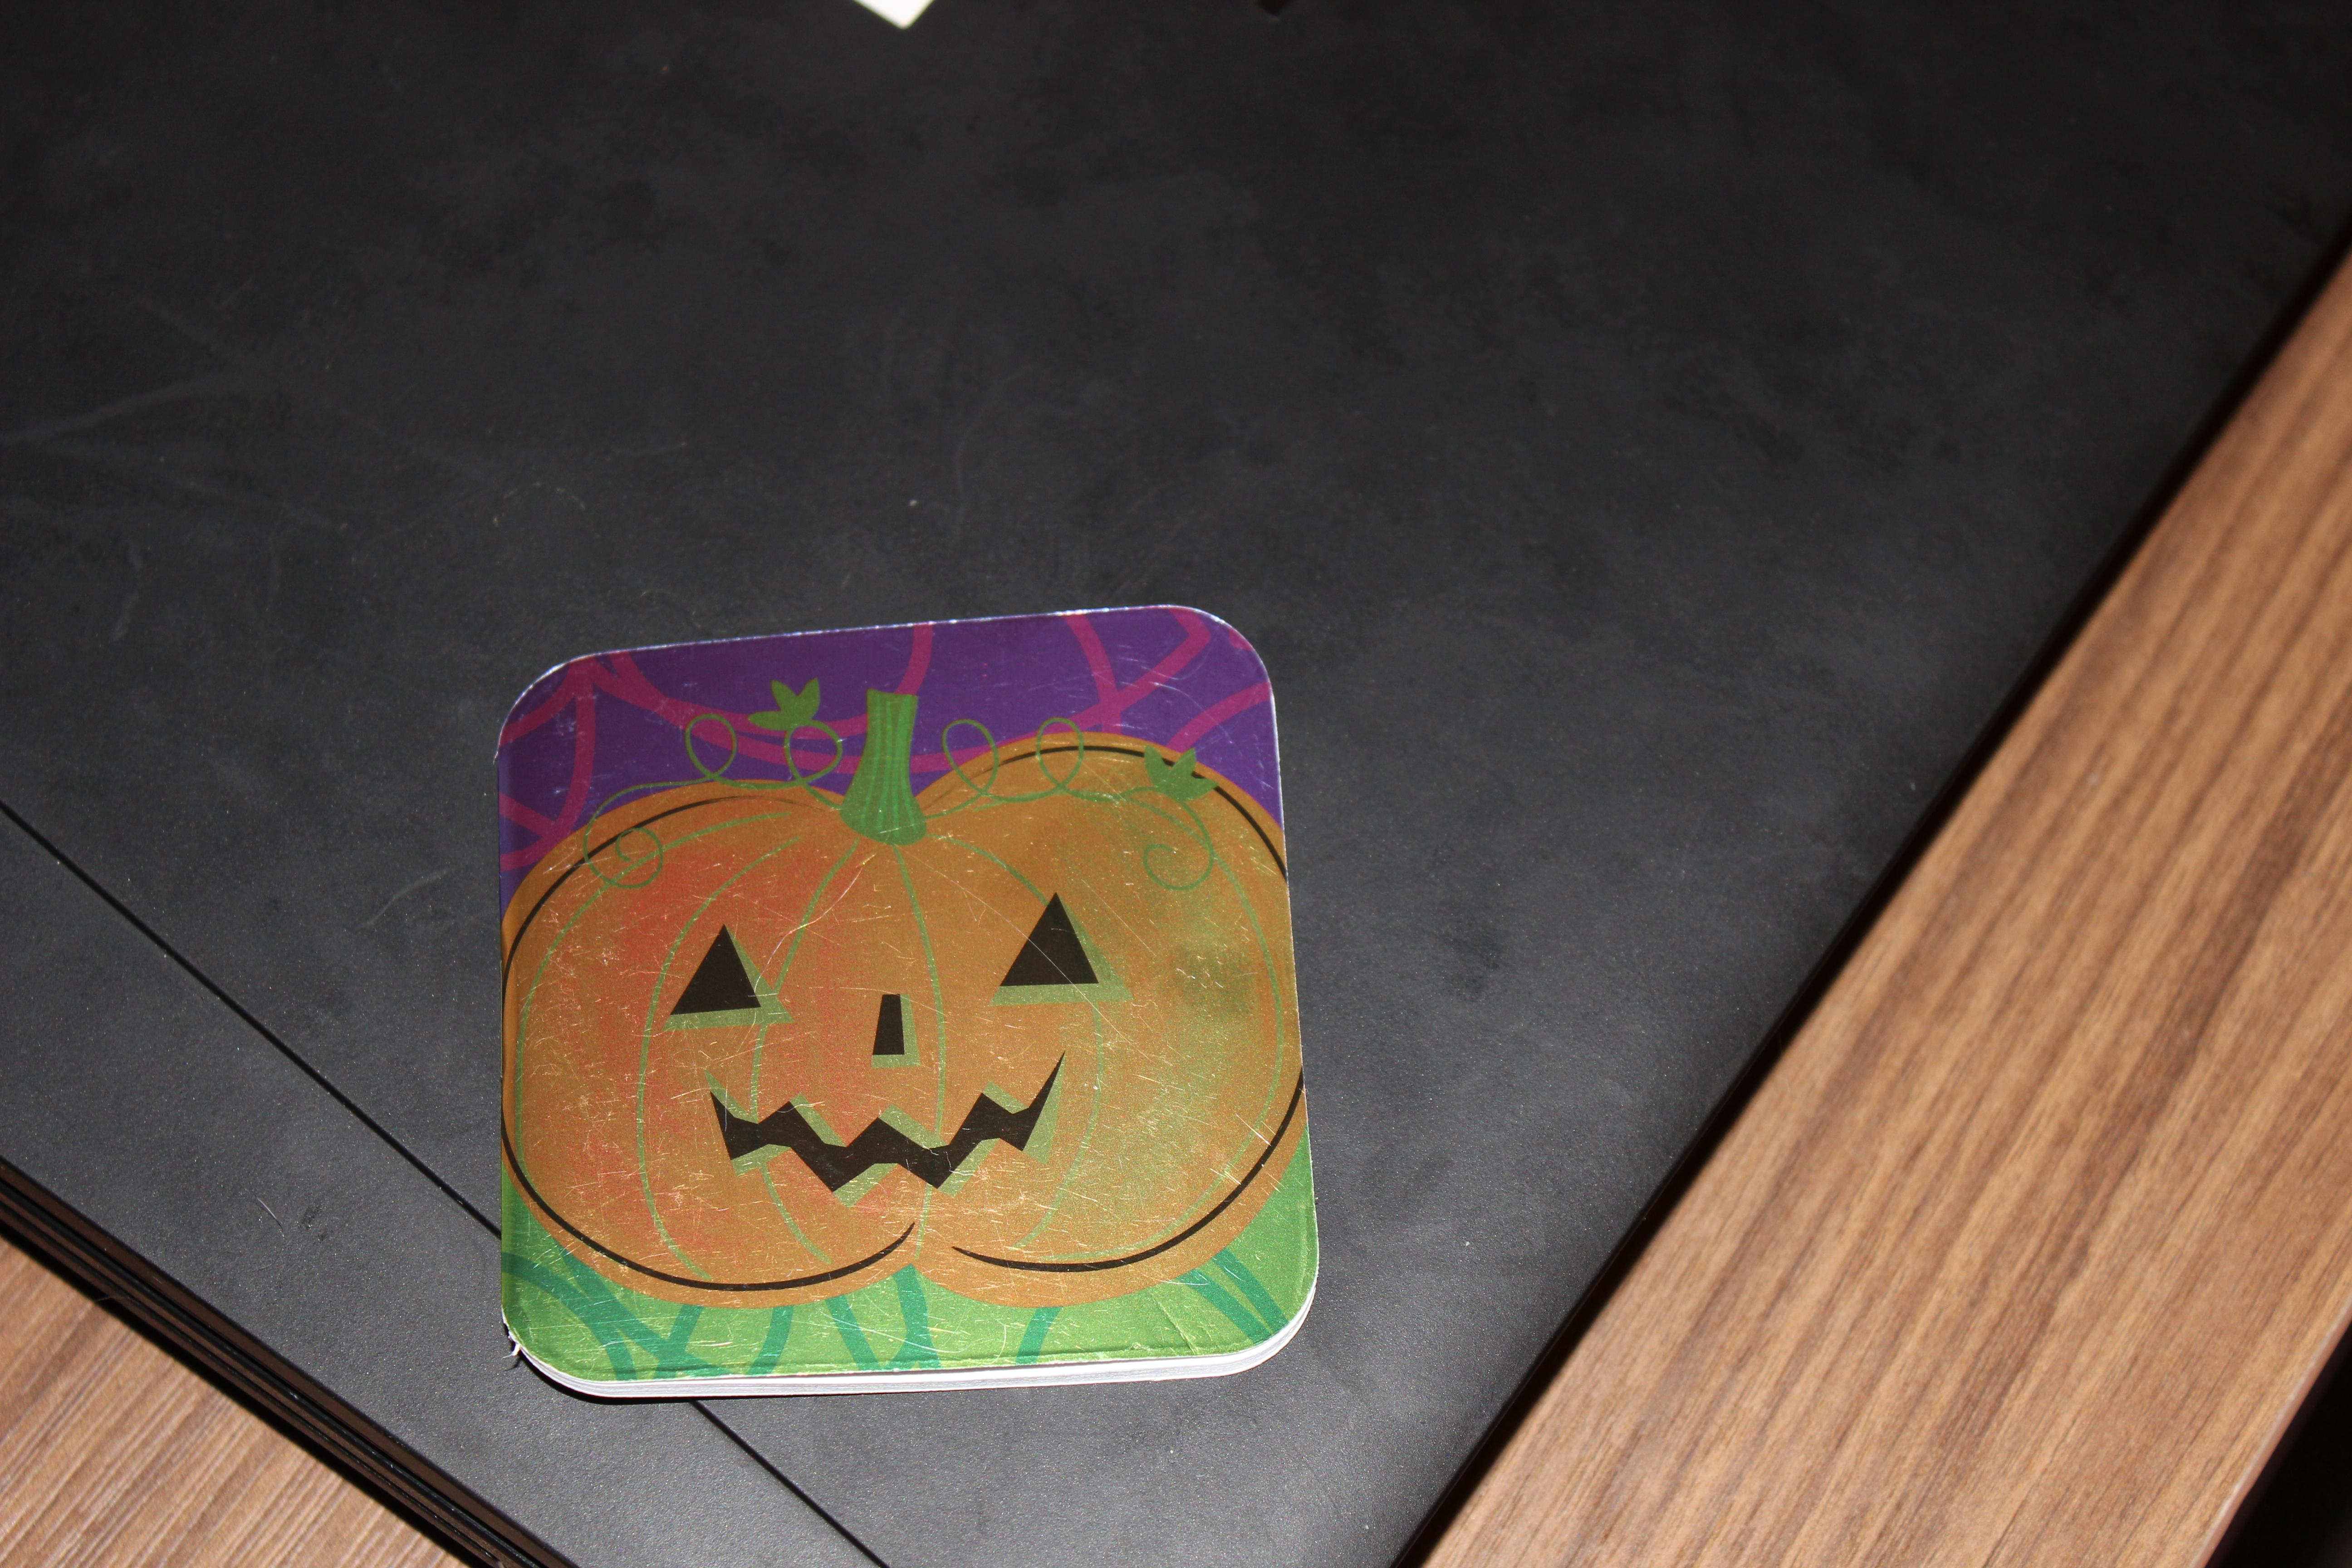pumpkinNotes: (464, 557, 1356, 1424)
